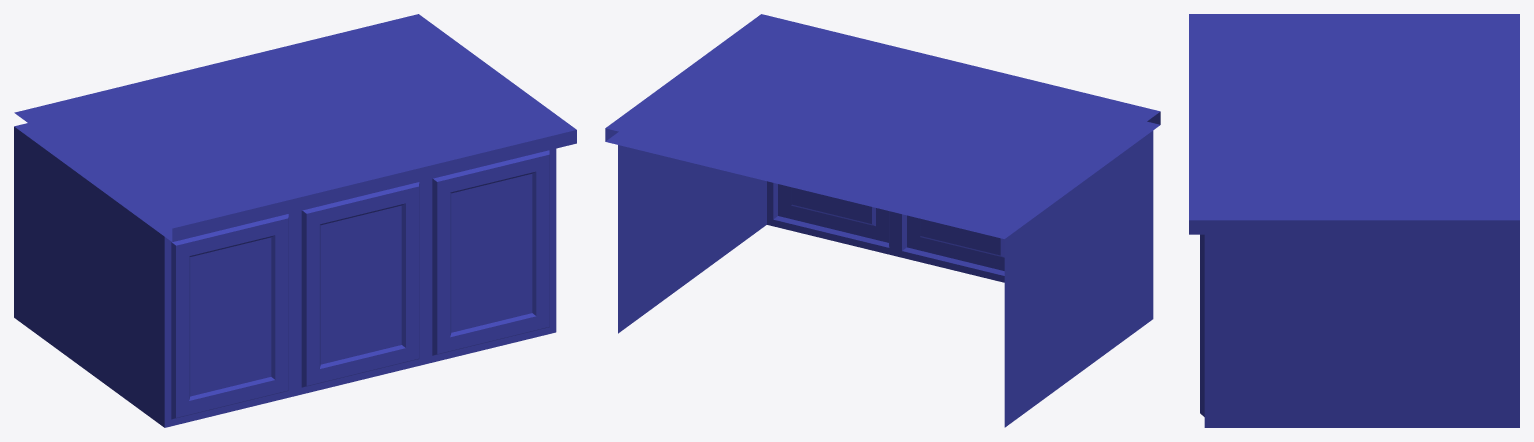
Rendered from counterA_2x3x1-5.FBX.
The picture shows the model from 3 angles, left to right: view 1: azimuth 30°, elevation 25°; view 2: azimuth 150°, elevation 25°; view 3: azimuth 270°, elevation 25°; orthographic projection. The views are drawn at different scales.
Visible parts, largest first — view 1: counterA_wood, counterA_marble; view 2: counterA_marble, counterA_wood; view 3: counterA_marble, counterA_wood.
Part boxes in pixels (box(x1,y1,x2,y2)): counterA_wood: box(14, 126, 556, 427); counterA_marble: box(14, 14, 576, 241); counterA_marble: box(605, 14, 1160, 238); counterA_wood: box(618, 130, 1153, 427); counterA_marble: box(1189, 14, 1519, 234); counterA_wood: box(1200, 234, 1519, 427).
Bounding box in the file's own units: 3.1 × 1.5 × 2.1.
